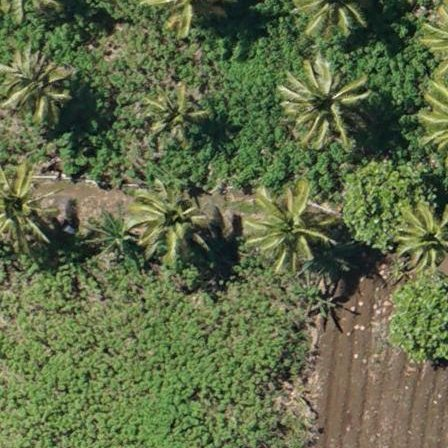palm_tree: (245, 177, 328, 266), (286, 56, 369, 144), (133, 176, 208, 256), (1, 48, 62, 122), (393, 195, 448, 268), (1, 164, 47, 246)
